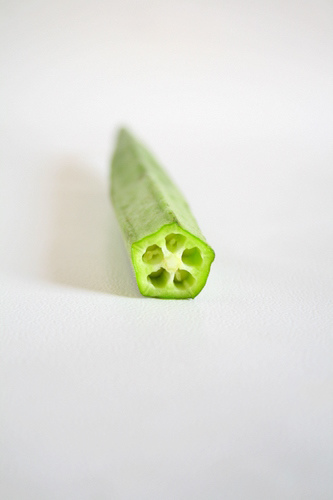okra: (107, 128, 215, 300)
